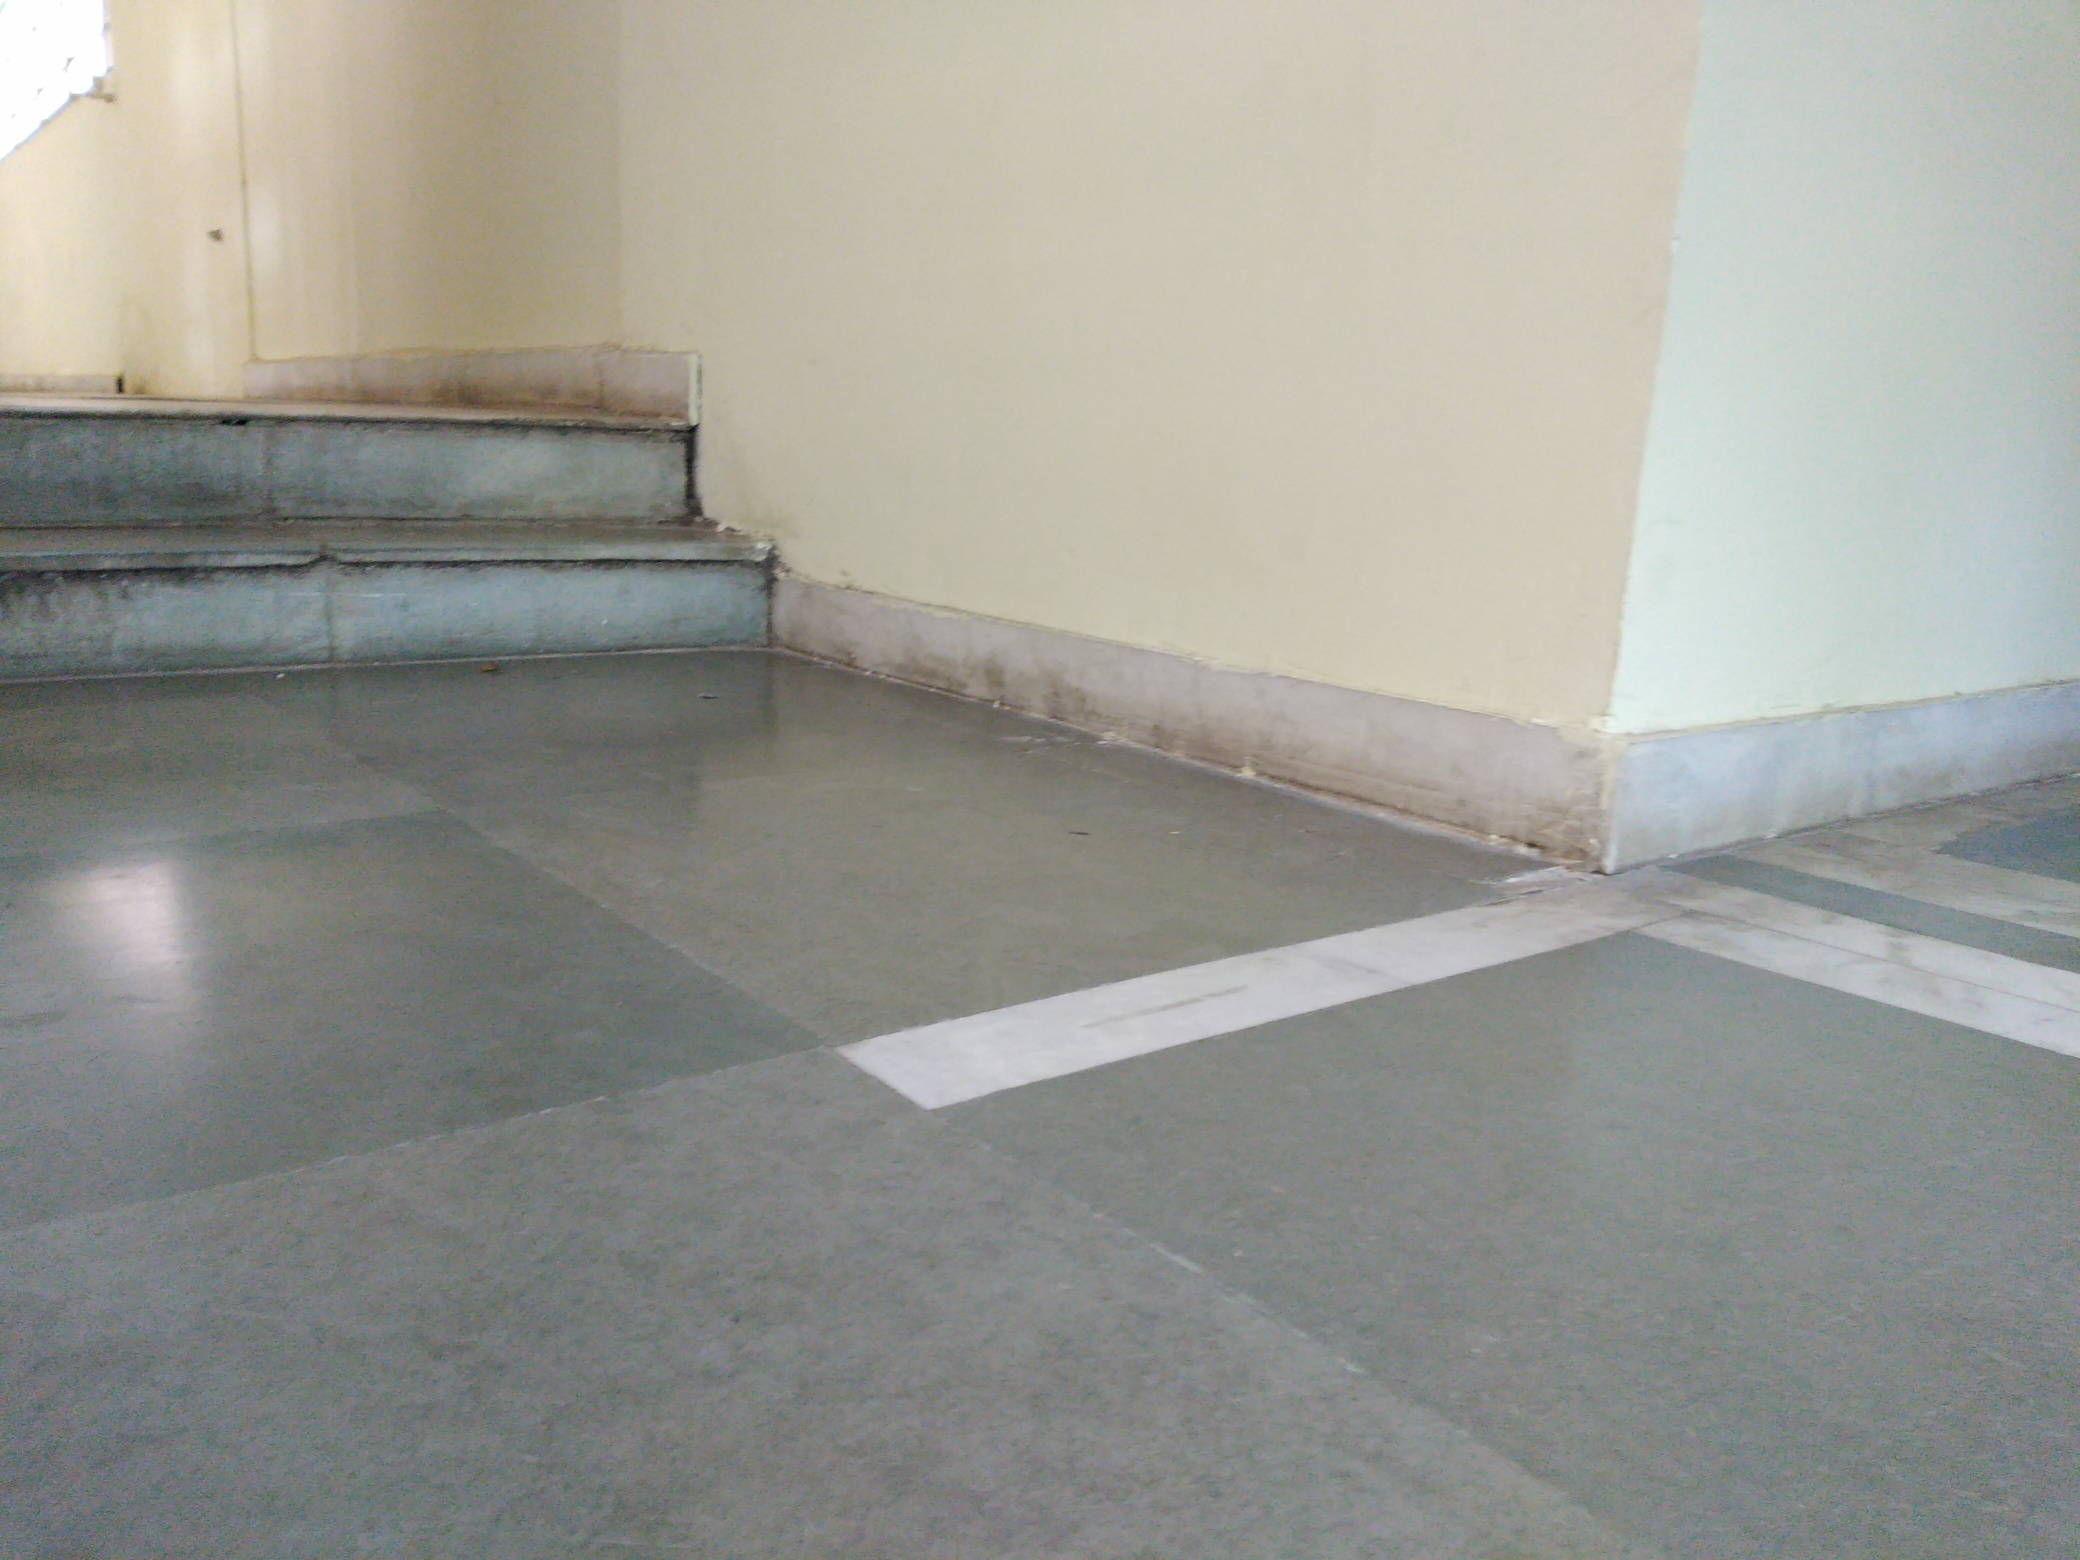stairs_up: (15, 393, 798, 673)
